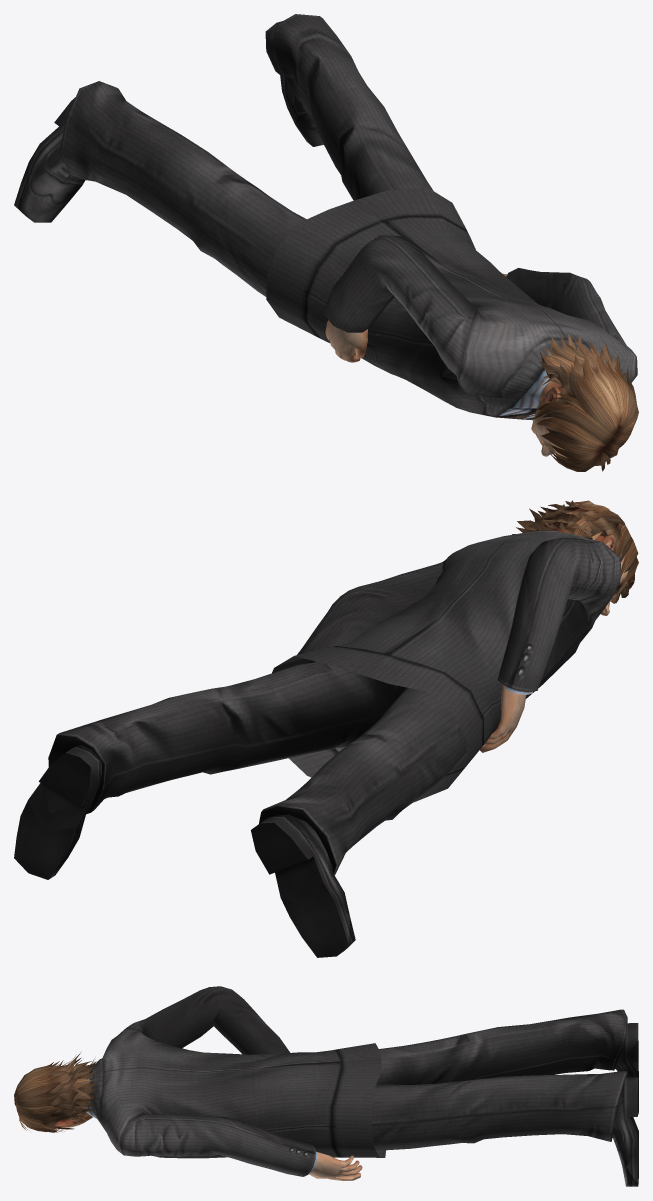
File: Man_A.obj
The picture shows the model from 3 angles, top to bottom: view 1: azimuth 30°, elevation 25°; view 2: azimuth 150°, elevation 25°; view 3: azimuth 270°, elevation 25°; orthographic projection. The views are drawn at different scales.
Parts seen in each view (by area): view 1: body_001; view 2: body_001; view 3: body_001.
Part boxes in pixels (left/top/right/bottom): body_001: left=14, top=14, right=638, bottom=471; body_001: left=14, top=500, right=638, bottom=957; body_001: left=14, top=986, right=638, bottom=1186.
Size of the model in its own units: 204 by 109 by 464.
